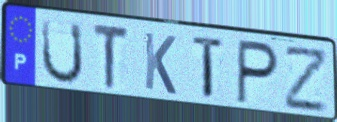K: (142, 30, 178, 98)
P: (235, 37, 281, 108)
T: (92, 22, 131, 92), (191, 33, 227, 102)
U: (40, 17, 86, 86)
Z: (283, 46, 330, 114)
